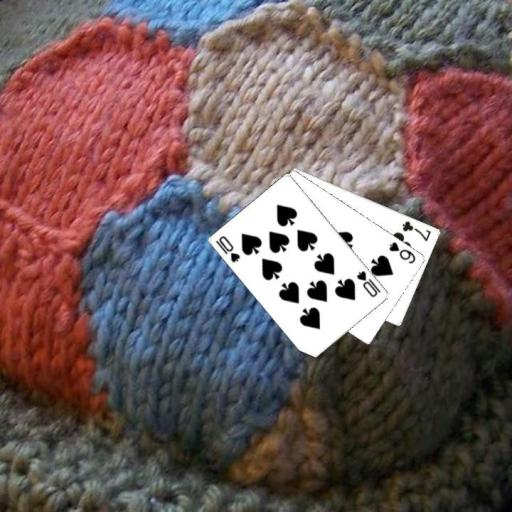10S: (354, 267, 383, 299), (213, 232, 242, 264)
6S: (386, 239, 418, 265)
7C: (399, 218, 432, 243)
